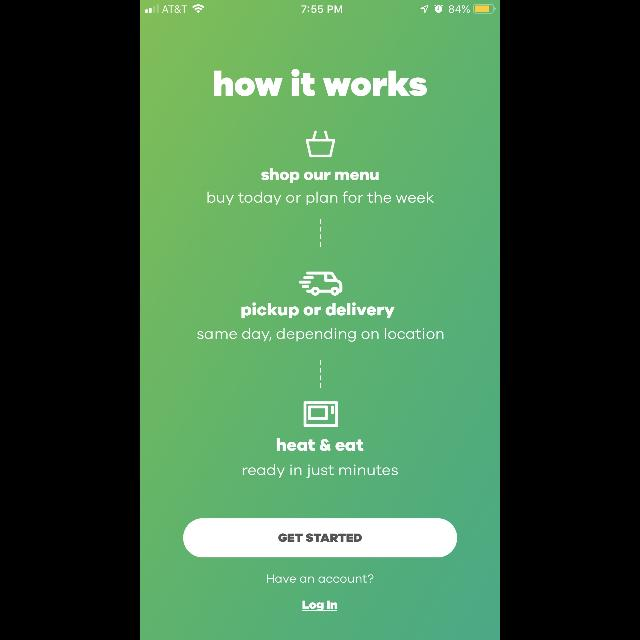icon: (304, 401, 338, 427), (306, 130, 336, 158)
image: (299, 272, 343, 296)
text: (214, 70, 426, 96), (198, 328, 444, 342), (208, 191, 434, 205), (242, 302, 394, 318), (242, 464, 398, 478), (262, 168, 378, 184), (276, 438, 364, 452), (267, 574, 373, 584), (302, 600, 338, 612)
textbutton: (183, 518, 457, 558)
uppertaskbar: (140, 0, 500, 14)
